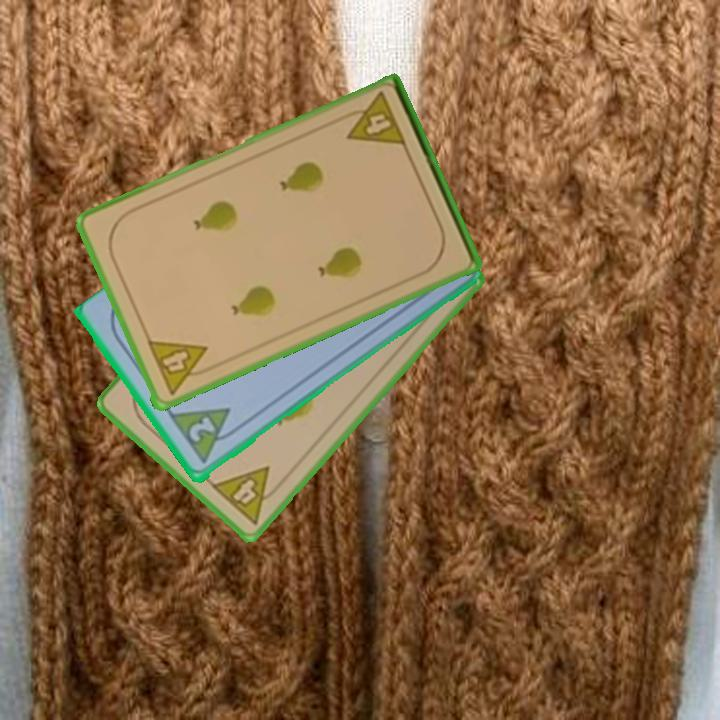2p: (167, 404, 245, 468)
4p: (207, 462, 288, 528), (143, 336, 217, 398), (336, 88, 409, 150)
